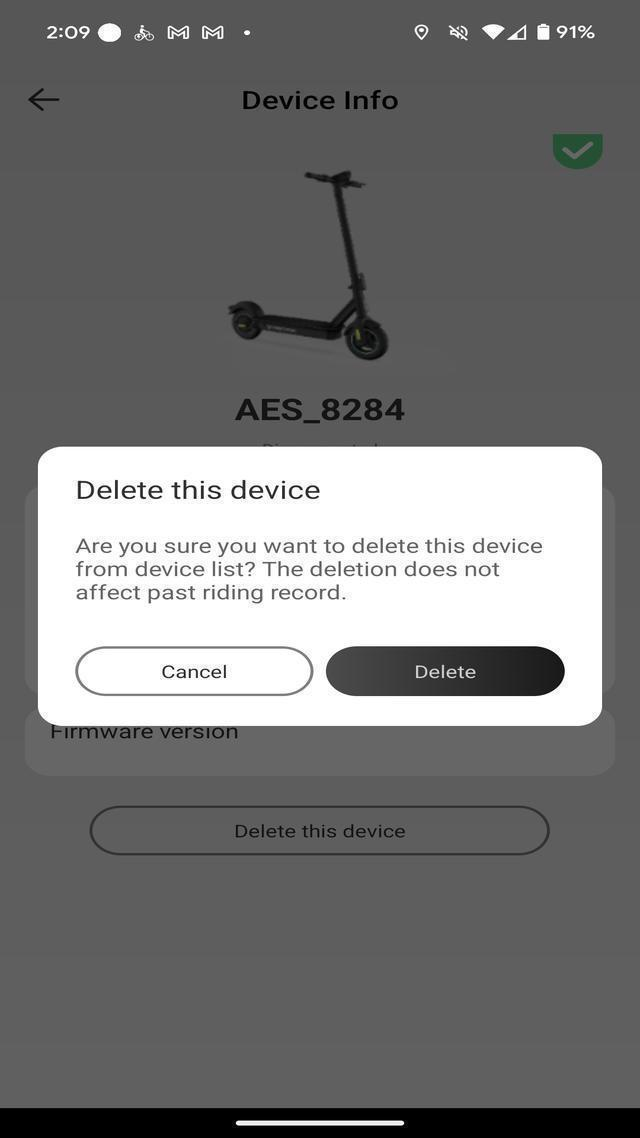Icon: (553, 129, 612, 170), (24, 87, 62, 117), (94, 22, 124, 45), (164, 22, 191, 42), (132, 22, 156, 43), (201, 21, 224, 42), (446, 23, 469, 42), (481, 21, 504, 40), (508, 21, 528, 40), (414, 24, 430, 46), (535, 21, 551, 42), (242, 24, 252, 42)
Image: (192, 156, 458, 367)
Text: (67, 532, 546, 558), (69, 562, 508, 582), (70, 473, 323, 507), (232, 391, 412, 426), (67, 586, 362, 606), (238, 84, 404, 118), (229, 820, 411, 846), (156, 656, 240, 684), (403, 659, 486, 684), (554, 20, 599, 44), (40, 23, 92, 41)
TextButton: (87, 802, 551, 858), (326, 644, 568, 697), (73, 646, 314, 697)
